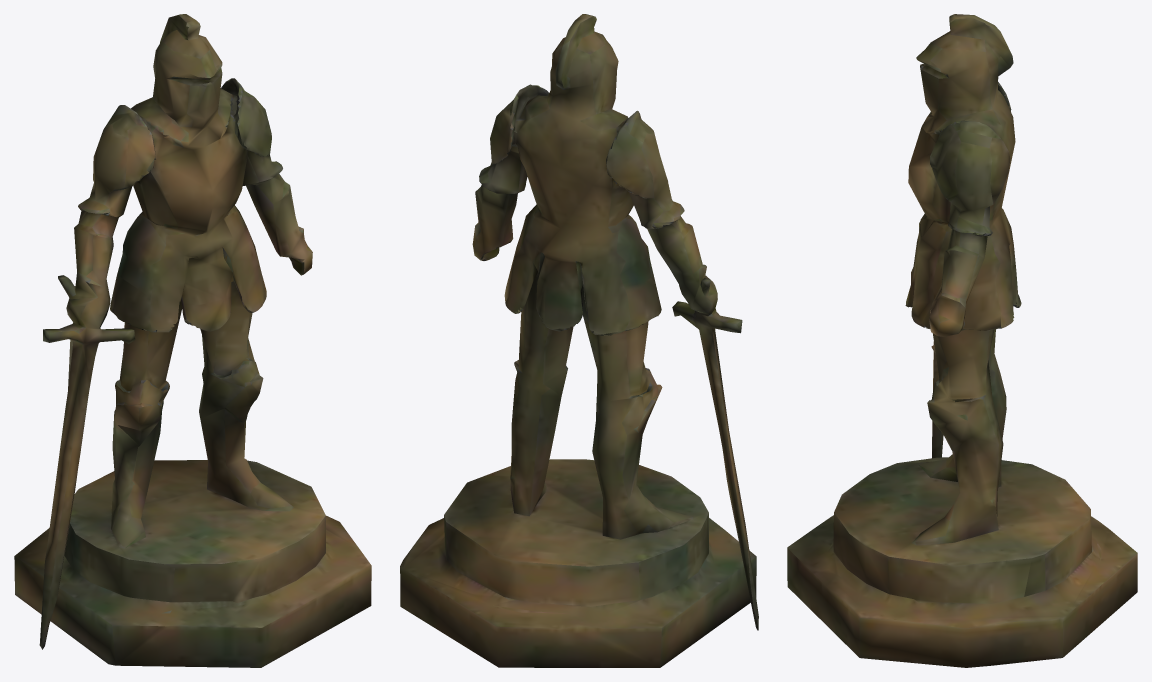
Rendered from chipped-bronze-suit-of-armour-v001.glb.
3 views of the same model, side by side, from view 1: azimuth 30°, elevation 25°; view 2: azimuth 150°, elevation 25°; view 3: azimuth 270°, elevation 25° (orthographic).
Parts seen in each view (by area): view 1: chipped-bronze-suit-of-armour; view 2: chipped-bronze-suit-of-armour; view 3: chipped-bronze-suit-of-armour.
Part boxes in pixels (box(x1,y1,x2,y2)): chipped-bronze-suit-of-armour: box(14, 14, 371, 667); chipped-bronze-suit-of-armour: box(400, 14, 758, 667); chipped-bronze-suit-of-armour: box(787, 14, 1137, 667).
Size of the model in its own units: 1.04 by 1.84 by 1.01.
Materials: 1 (1 with a texture image).
